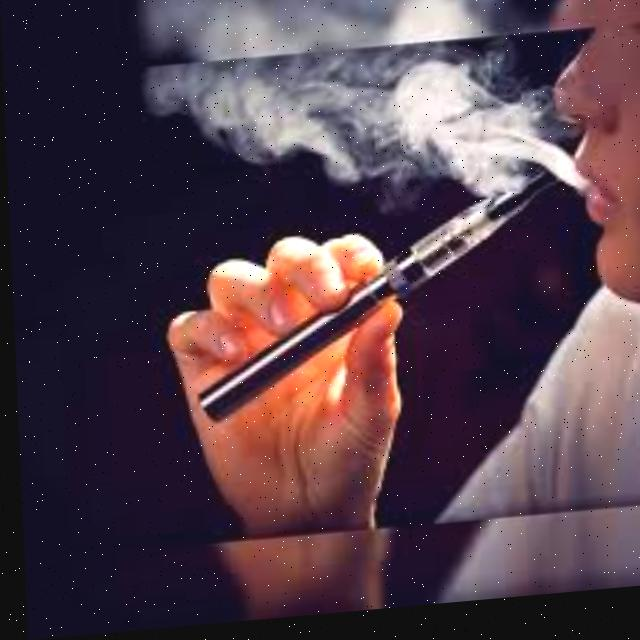vape: (186, 164, 571, 437)
